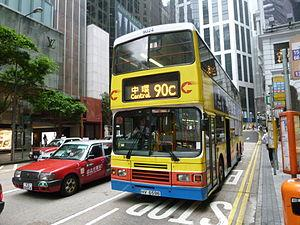car: (17, 129, 99, 179)
truck: (109, 32, 254, 198)
